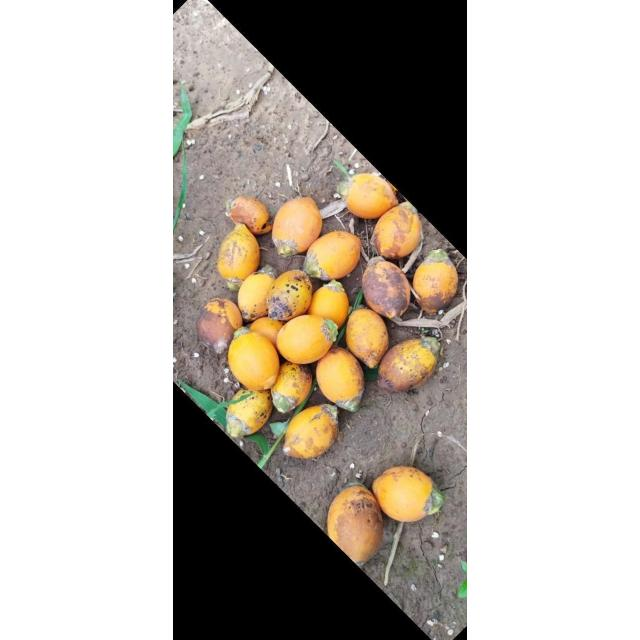good: (372, 466, 438, 522), (378, 338, 438, 392), (225, 329, 279, 388), (283, 404, 339, 460), (276, 315, 336, 365), (362, 258, 410, 318), (412, 248, 456, 312), (346, 308, 388, 368), (217, 222, 259, 282), (196, 298, 242, 352), (270, 359, 314, 413), (225, 387, 272, 437), (347, 173, 398, 219), (266, 270, 312, 320), (228, 197, 272, 236), (250, 317, 284, 347)
